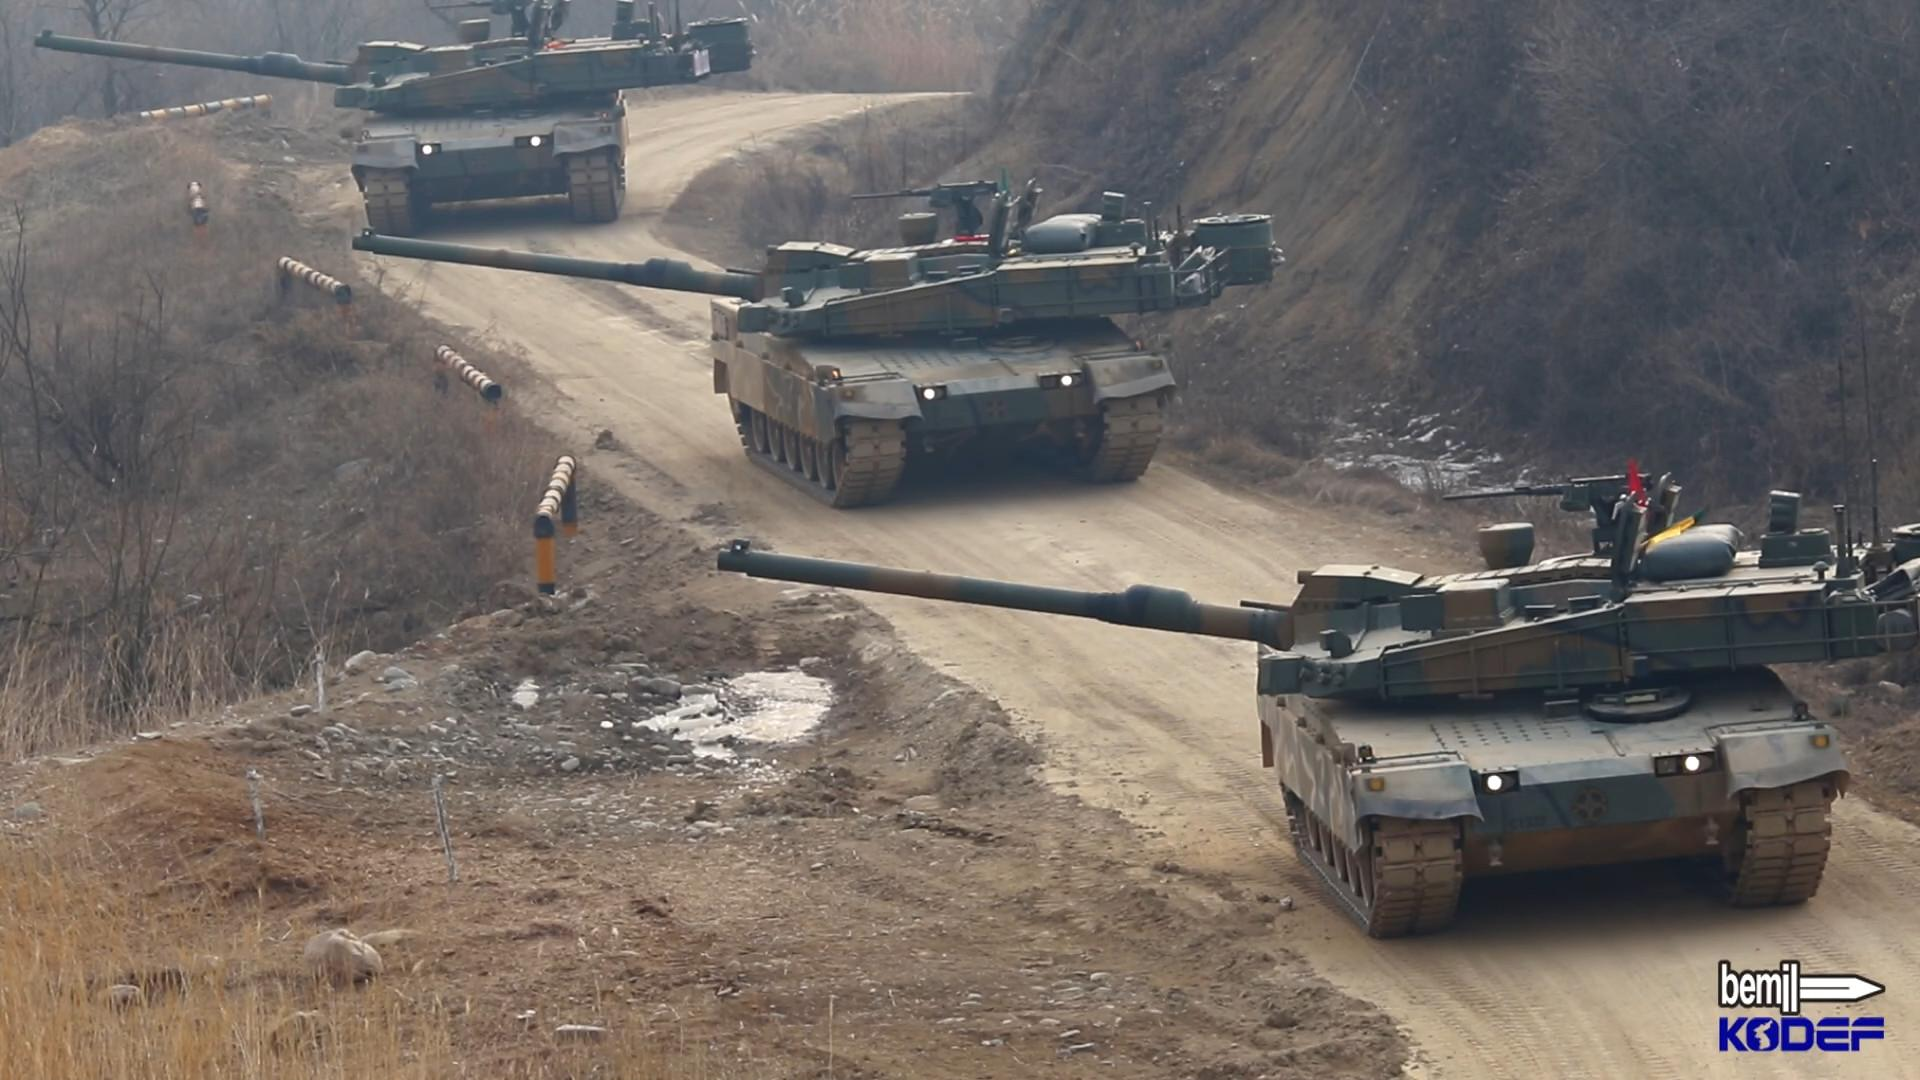tank: (717, 472, 1919, 939), (351, 167, 1287, 508), (33, 12, 758, 237)
